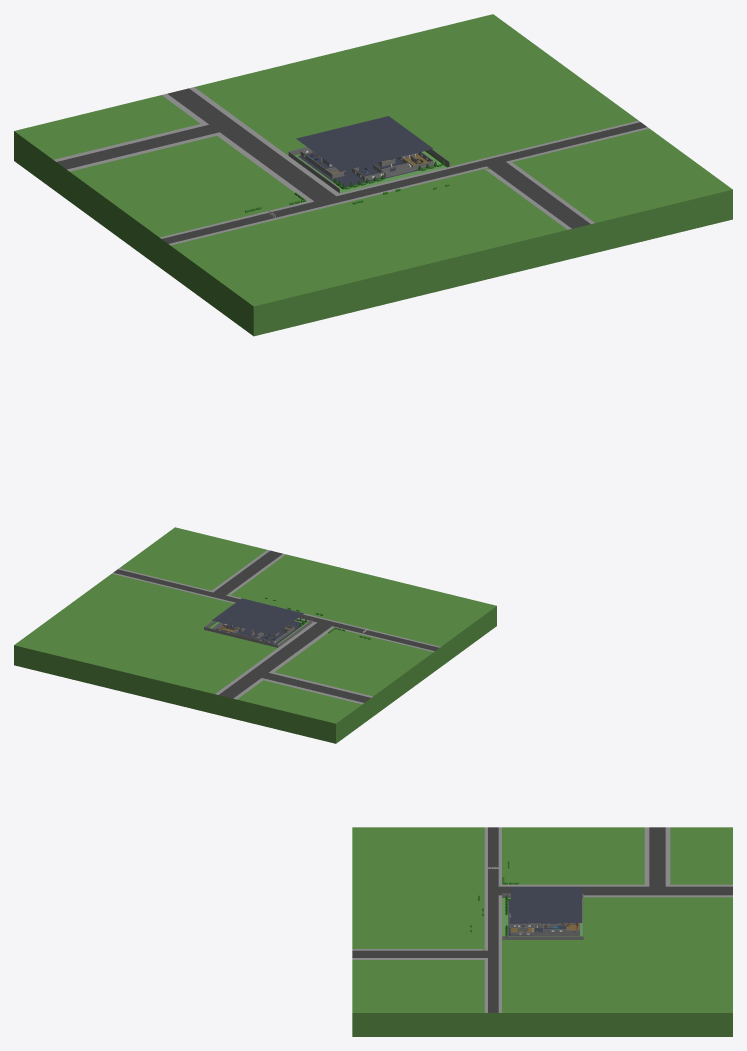
File: Maps_Level_4.fbx
3 renders of one model, top to bottom at view 1: azimuth 30°, elevation 25°; view 2: azimuth 150°, elevation 25°; view 3: azimuth 270°, elevation 25°, orthographic. The views are drawn at different scales.
Visible parts, largest first — view 1: Ground, Roof, FloorGame; view 2: Ground, Roof; view 3: Ground, Roof.
Part boxes in pixels (x1,y1,x2,y2): Ground: [14, 14, 732, 336]; Roof: [296, 116, 433, 171]; FloorGame: [298, 152, 433, 187]; Ground: [14, 527, 496, 743]; Roof: [212, 598, 303, 635]; Ground: [352, 827, 732, 1036]; Roof: [511, 887, 582, 922].
Bounding box in the file's own units: 434 × 30.95 × 552.
